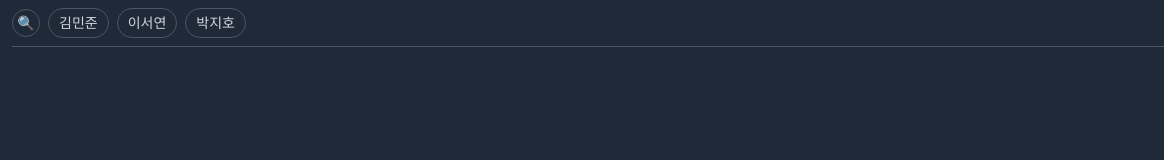
Test: StudentFilterChipBar › 검색 버튼 클릭 시 검색 입력 노출
This screenshot has width=1164, height=160.
Click the button named "학생 검색" at (26, 23), box [12,9,40,37]
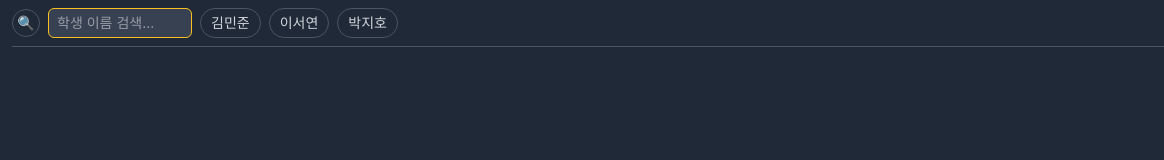
Expected: the field with placeholder "학생 이름 검색..." is shown, [48,8,192,38]
